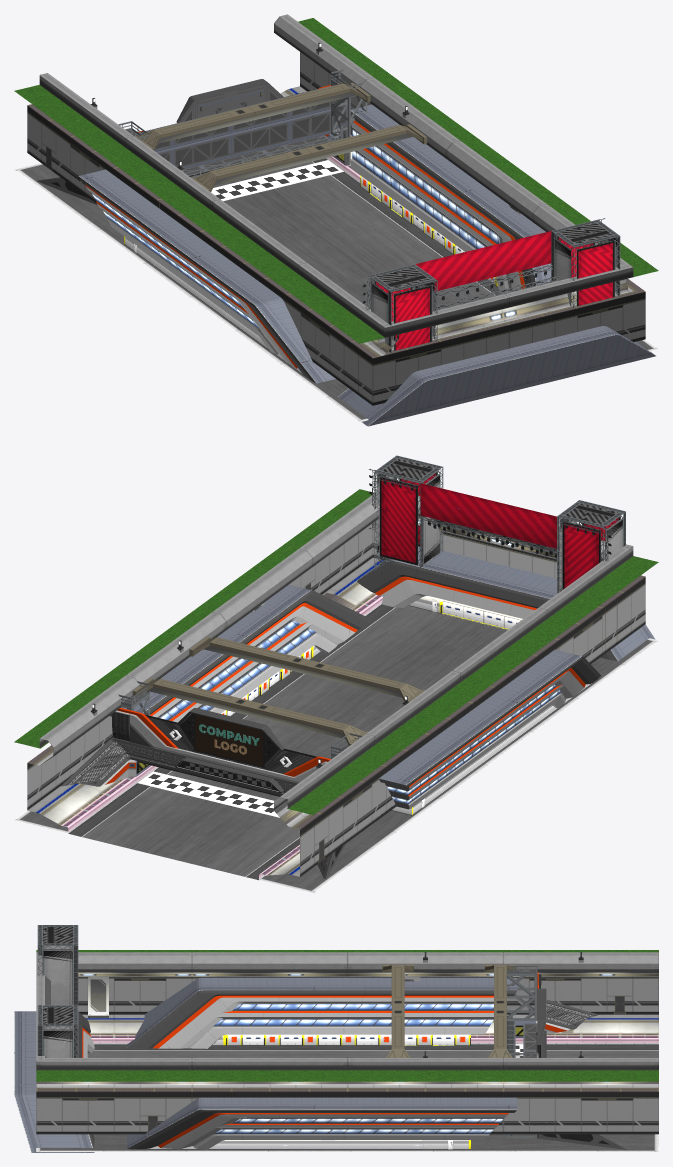
Rendered from Finish Platform - Underground.fbx.
3 renders of one model, top to bottom at view 1: azimuth 30°, elevation 25°; view 2: azimuth 150°, elevation 25°; view 3: azimuth 270°, elevation 25°, orthographic. The views are drawn at different scales.
Visible parts, largest first — view 1: gat_sta_finish2, standard_trench, standard_road3, trench_grass, gat_sta_start, standard_arch3, standard_arch2; view 2: gat_sta_finish2, standard_trench, standard_road3, trench_grass, gat_sta_start, standard_arch3, standard_arch2, wall_straight_tunnel; view 3: standard_trench, gat_sta_finish2, standard_road3, trench_grass, gat_sta_start, wall_straight_tunnel, standard_arch3, standard_arch2.
Boxes of the visible parts, x1,y1,x2,y2 form: gat_sta_finish2: (37, 69, 620, 383); standard_trench: (27, 14, 645, 405); standard_road3: (14, 158, 658, 422); trench_grass: (14, 18, 658, 343); gat_sta_start: (338, 175, 655, 426); standard_arch3: (191, 124, 427, 191); standard_arch2: (134, 82, 370, 150); gat_sta_finish2: (61, 455, 625, 879); standard_trench: (27, 492, 645, 876); standard_road3: (14, 604, 658, 893); trench_grass: (14, 489, 658, 814); gat_sta_start: (221, 546, 655, 716); standard_arch3: (189, 636, 425, 701); standard_arch2: (132, 678, 368, 745); wall_straight_tunnel: (61, 595, 382, 879); standard_trench: (36, 952, 658, 1134); gat_sta_finish2: (37, 925, 627, 1149); standard_road3: (36, 1044, 658, 1151); trench_grass: (36, 950, 658, 1081); gat_sta_start: (14, 1011, 470, 1152); wall_straight_tunnel: (91, 1035, 658, 1044); standard_arch3: (382, 964, 413, 1057); standard_arch2: (484, 964, 516, 1057).
Size of the model in its own units: 7017 by 2583 by 13260.
